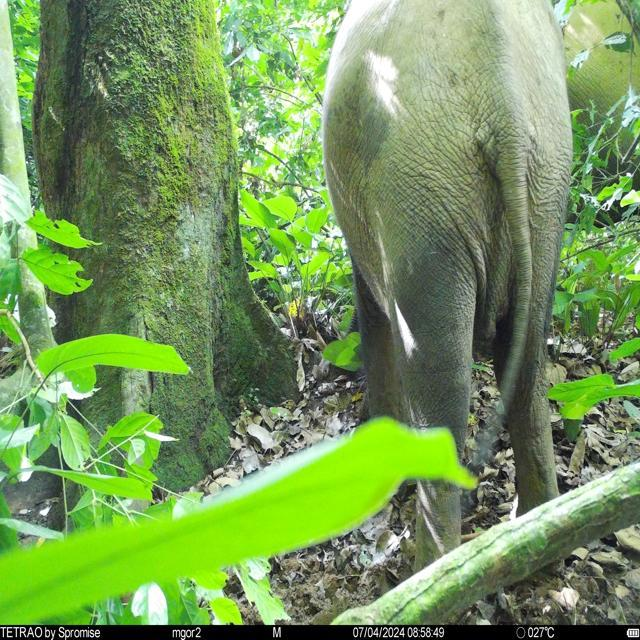elephant: (320, 0, 574, 573)
